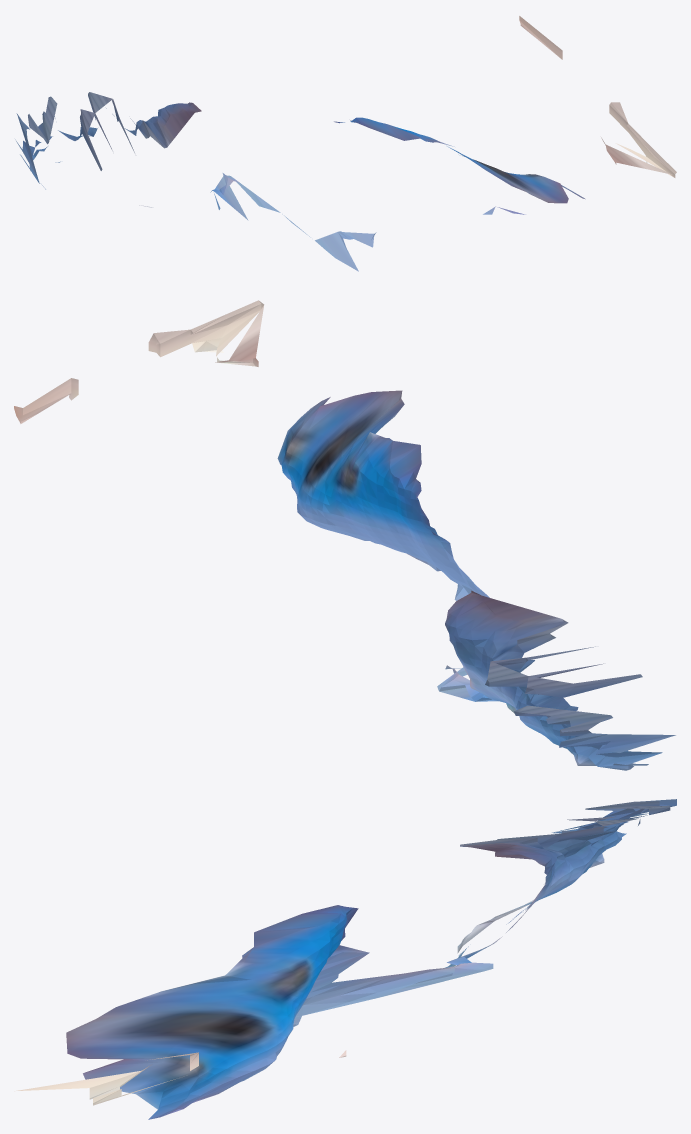
The model's file is observed-surface.glb.
3 views of the same model, one above another, from view 1: azimuth 30°, elevation 25°; view 2: azimuth 150°, elevation 25°; view 3: azimuth 270°, elevation 25° (orthographic). The views are drawn at different scales.
Visible parts, largest first — view 1: geometry_0; view 2: geometry_0; view 3: geometry_0.
Part boxes in pixels (<box>): geometry_0: <box>15,16,676,271</box>; geometry_0: <box>14,300,675,770</box>; geometry_0: <box>14,799,676,1119</box>.
Bounding box in the file's own units: 0.8078 × 0.2177 × 0.6886.
Materials: 1 (1 with a texture image).
